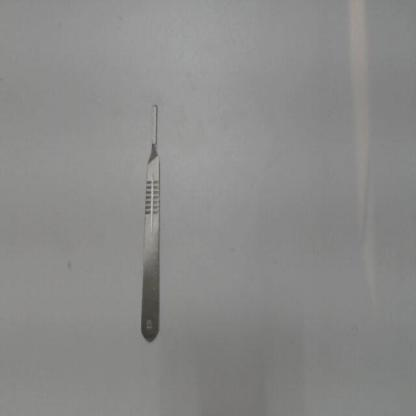No.4 BP Handle: (136, 99, 162, 346)
